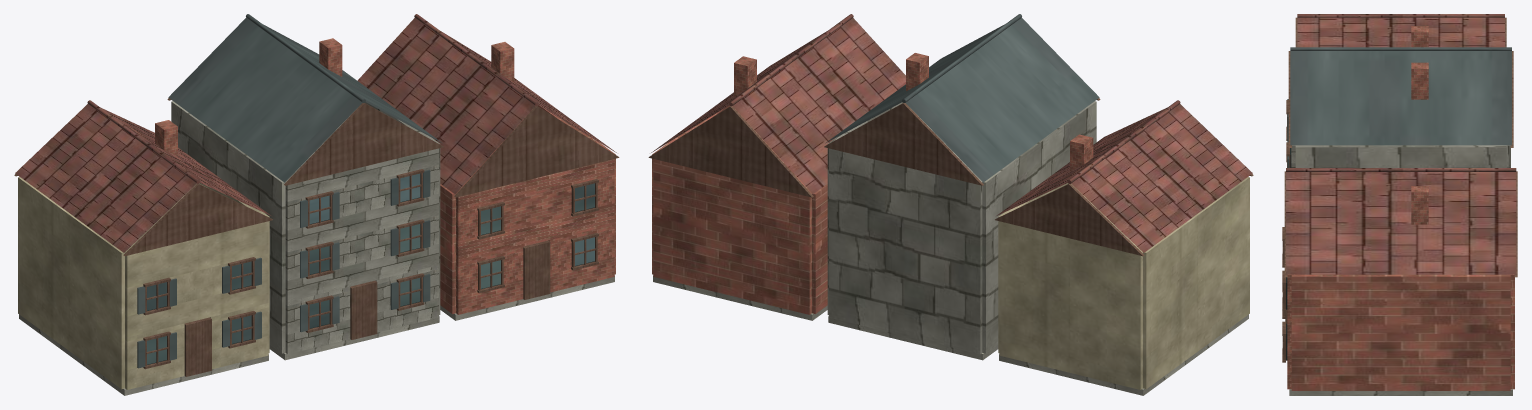
File: carentan-row.glb
3 renders of one model, left to right at view 1: azimuth 30°, elevation 25°; view 2: azimuth 150°, elevation 25°; view 3: azimuth 270°, elevation 25°, orthographic. The views are drawn at different scales.
Visible parts, largest first — view 1: Normannische Häuserzeile; view 2: Normannische Häuserzeile; view 3: Normannische Häuserzeile.
Boxes of the visible parts, left/top/right/bottom form: Normannische Häuserzeile: left=14, top=14, right=619, bottom=395; Normannische Häuserzeile: left=648, top=14, right=1253, bottom=395; Normannische Häuserzeile: left=1282, top=14, right=1517, bottom=395.
Bounding box in the file's own units: 19.39 × 9.23 × 8.48.
Materials: 1 (1 with a texture image).
